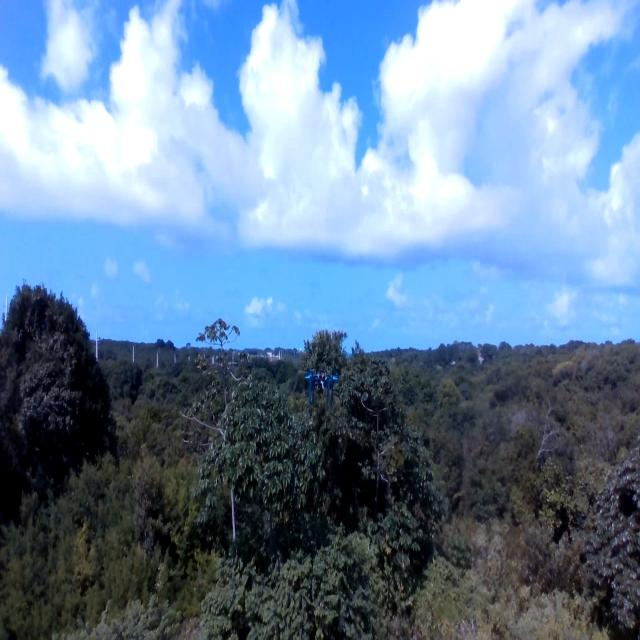-uav-: (306, 372, 337, 403)
